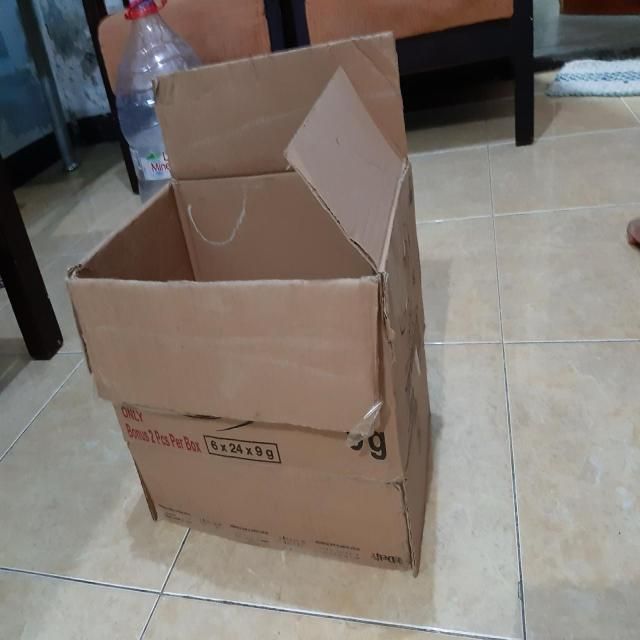Galon: (108, 4, 215, 189)
Kardus: (65, 29, 433, 576)
